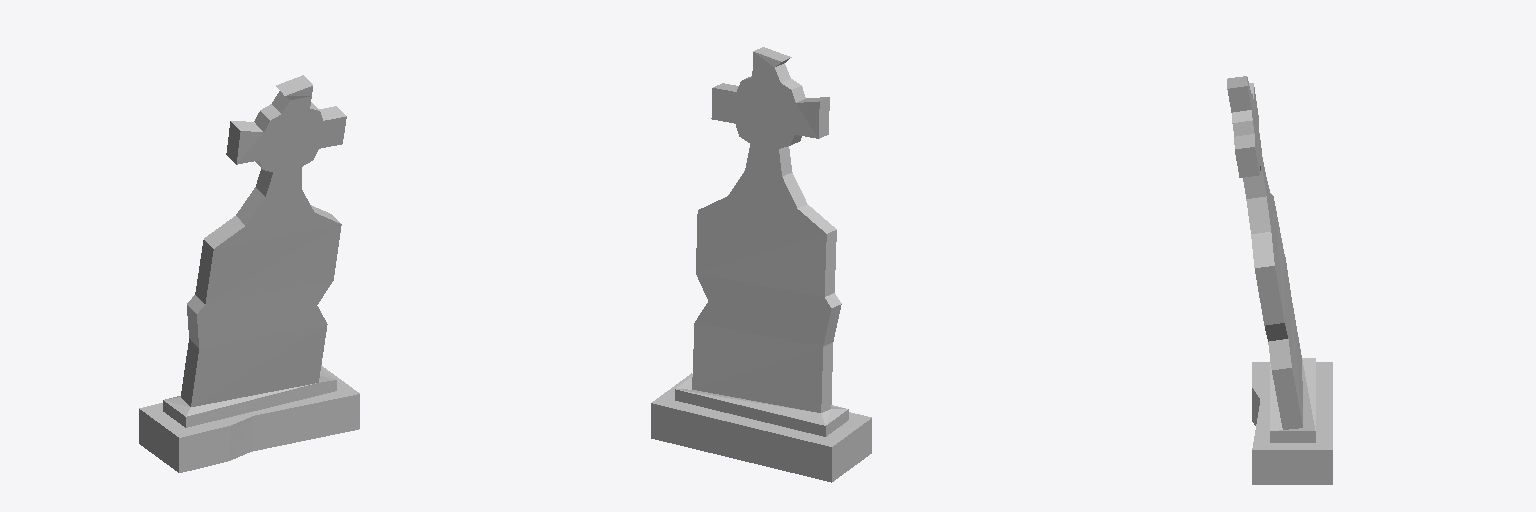
The model's file is Tombstone_2.obj.
The picture shows the model from 3 angles: view 1: azimuth 30°, elevation 25°; view 2: azimuth 150°, elevation 25°; view 3: azimuth 270°, elevation 25°; orthographic projection.
Parts seen in each view (by area): view 1: Tombstone_06; view 2: Tombstone_06; view 3: Tombstone_06.
Boxes of the visible parts, box(x1,y1,x2,y2) form: Tombstone_06: box(139, 75, 359, 472); Tombstone_06: box(651, 47, 871, 482); Tombstone_06: box(1227, 76, 1332, 484).
Size of the model in its own units: 11.43 by 22.36 by 5.8.